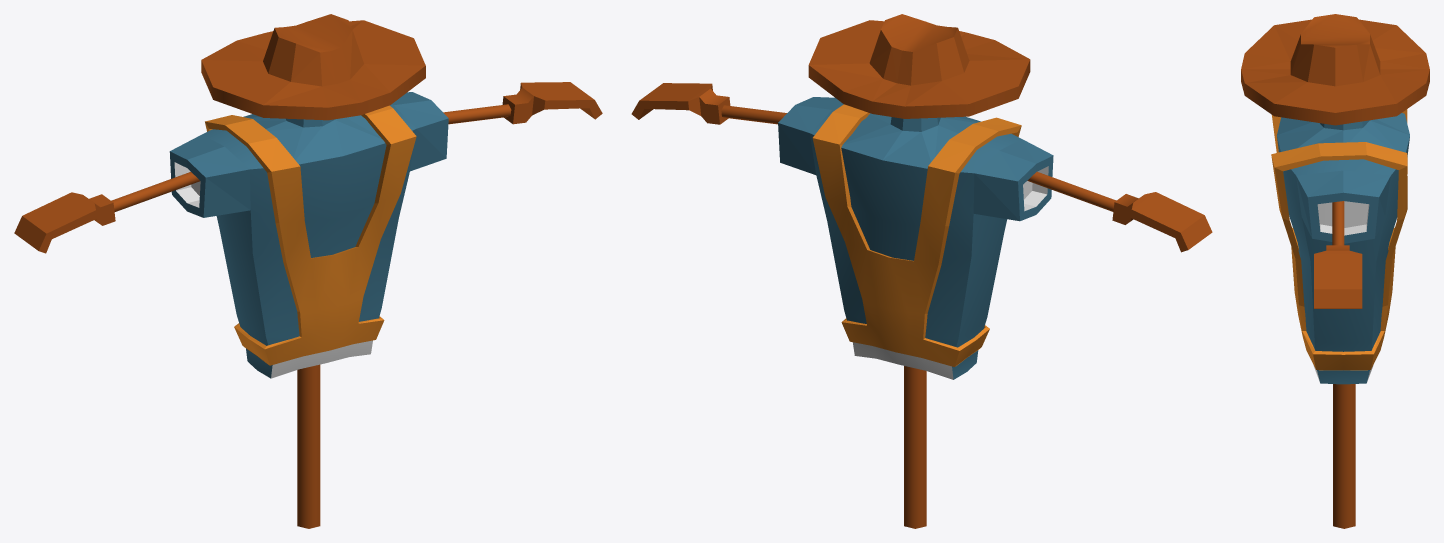
File: scarecrow_2.FBX
The picture shows the model from 3 angles, left to right: view 1: azimuth 30°, elevation 25°; view 2: azimuth 150°, elevation 25°; view 3: azimuth 270°, elevation 25°; orthographic projection.
Visible parts, largest first — view 1: scarecrow_2; view 2: scarecrow_2; view 3: scarecrow_2.
Boxes of the visible parts, x1,y1,x2,y2 form: scarecrow_2: (14,14,602,528); scarecrow_2: (631,14,1212,528); scarecrow_2: (1241,14,1429,528).
Size of the model in its own units: 3.05 by 2.57 by 0.8939.
1 material, 1 textured.
